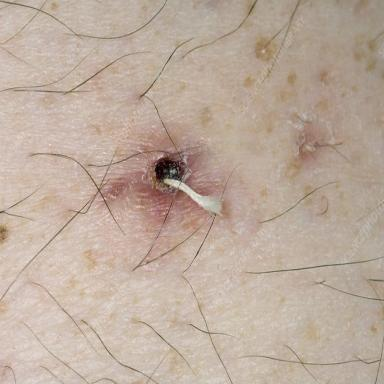Tungiasis: (149, 154, 222, 214)
